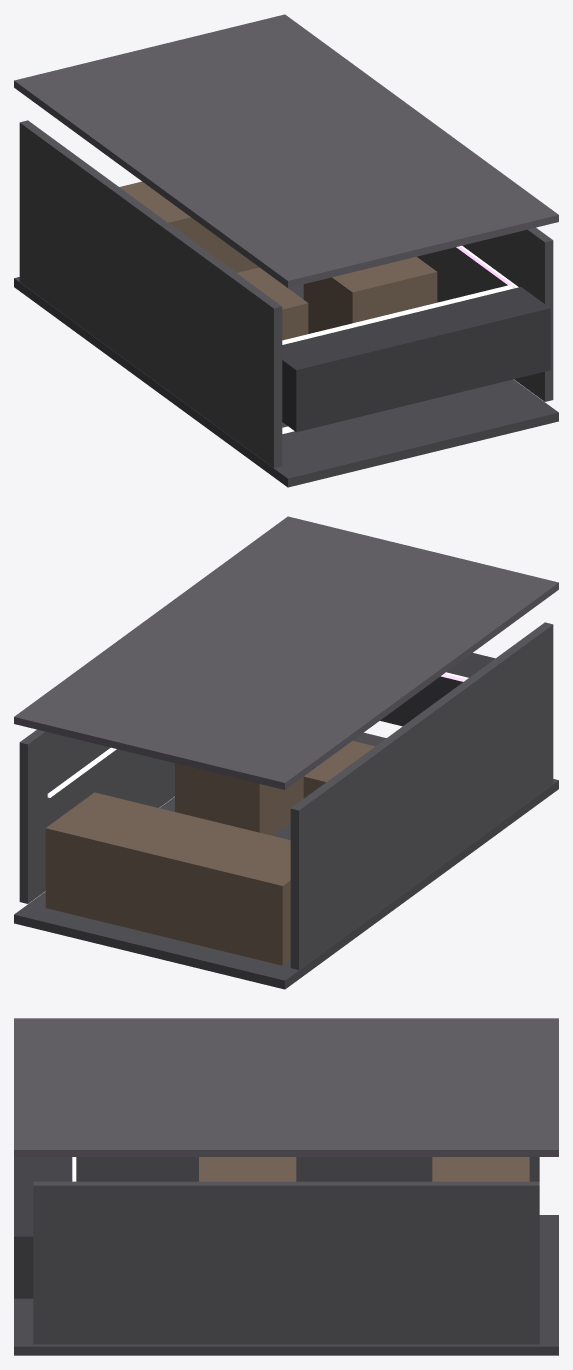
File: demo-suv-cabin-led.glb
3 renders of one model, top to bottom at view 1: azimuth 30°, elevation 25°; view 2: azimuth 150°, elevation 25°; view 3: azimuth 270°, elevation 25°, orthographic.
Visible parts, largest first — view 1: Roof, Door_L, Dashboard, Floor, Door_R, Seat_FR, Seat_Rear, Seat_FL, LED_Dash; view 2: Roof, Door_L, Seat_Rear, Door_R, Floor, Seat_FR, Dashboard, Seat_FL; view 3: Door_R, Roof, Floor, Door_L, Dashboard, Seat_FL, Seat_Rear.
Boxes of the visible parts, left/top/right/bottom form: Roof: left=14, top=14, right=558, bottom=287; Door_L: left=19, top=120, right=282, bottom=467; Dashboard: left=282, top=287, right=550, bottom=432; Floor: left=14, top=277, right=558, bottom=487; Door_R: left=417, top=227, right=553, bottom=401; Seat_FR: left=303, top=256, right=437, bottom=333; Seat_Rear: left=119, top=181, right=259, bottom=272; Seat_FL: left=237, top=267, right=308, bottom=340; LED_Dash: left=282, top=284, right=512, bottom=344; Roof: left=14, top=516, right=558, bottom=789; Door_L: left=290, top=622, right=553, bottom=969; Seat_Rear: left=45, top=792, right=290, bottom=965; Door_R: left=19, top=729, right=174, bottom=903; Floor: left=14, top=732, right=558, bottom=989; Seat_FR: left=175, top=763, right=303, bottom=835; Dashboard: left=380, top=653, right=495, bottom=726; Seat_FL: left=303, top=741, right=374, bottom=798; Door_R: left=33, top=1181, right=539, bottom=1344; Roof: left=14, top=1018, right=558, bottom=1156; Floor: left=14, top=1215, right=558, bottom=1355; Door_L: left=76, top=1157, right=539, bottom=1181; Dashboard: left=14, top=1157, right=72, bottom=1298; Seat_FL: left=199, top=1157, right=296, bottom=1181; Seat_Rear: left=432, top=1157, right=529, bottom=1181.
Size of the model in its own units: 1.65 by 1.16 by 2.8.
